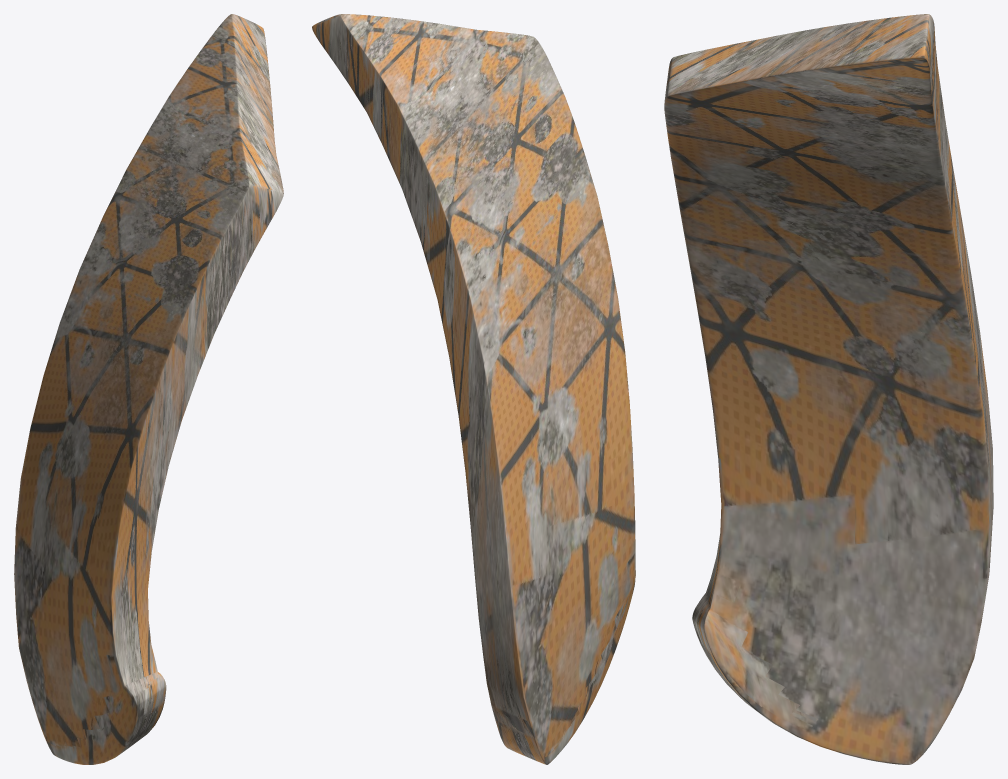
The model's file is plastic.glb.
3 views of the same model, side by side, from view 1: azimuth 30°, elevation 25°; view 2: azimuth 150°, elevation 25°; view 3: azimuth 270°, elevation 25° (orthographic). The views are drawn at different scales.
Parts seen in each view (by area): view 1: Cube; view 2: Cube; view 3: Cube.
Boxes of the visible parts, x1=… form: Cube: x1=14, y1=14, x2=283, y2=764; Cube: x1=312, y1=14, x2=635, y2=764; Cube: x1=664, y1=14, x2=993, y2=764.
Bounding box in the file's own units: 1.25 × 3.54 × 1.23.
1 material, 1 textured.
